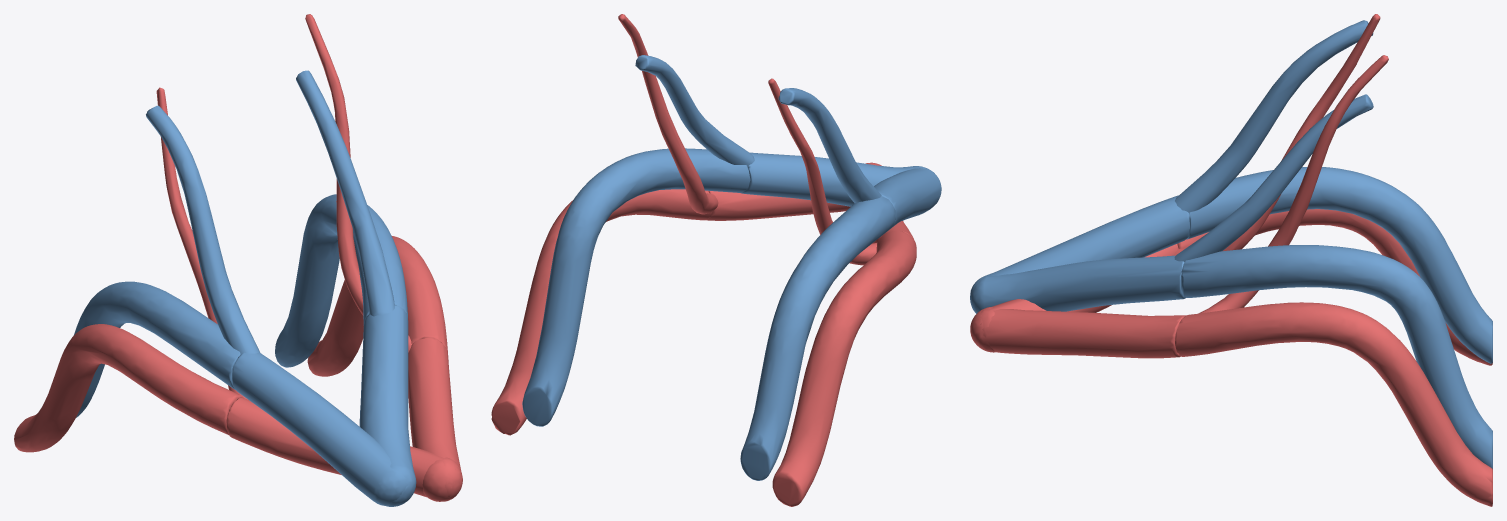
Rendered from bassin-vaisseaux.glb.
3 renders of one model, left to right at view 1: azimuth 30°, elevation 25°; view 2: azimuth 150°, elevation 25°; view 3: azimuth 270°, elevation 25°, orthographic. The views are drawn at different scales.
Visible parts, largest first — view 1: artere_iliaque_externe_droite, veine_iliaque_commune_droite, veine_iliaque_externe_gauche, veine_iliaque_externe_droite, veine_iliaque_commune_gauche, artere_iliaque_commune_gauche, veine_iliaque_interne_droite, artere_iliaque_externe_gauche, veine_iliaque_interne_gauche, artere_iliaque_commune_droite, artere_iliaque_interne_gauche, artere_iliaque_interne_droite; view 2: veine_iliaque_externe_gauche, veine_iliaque_externe_droite, artere_iliaque_externe_droite, artere_iliaque_externe_gauche, veine_iliaque_commune_gauche, veine_iliaque_interne_droite, veine_iliaque_interne_gauche, artere_iliaque_interne_gauche, artere_iliaque_commune_gauche, veine_iliaque_commune_droite, artere_iliaque_interne_droite; view 3: veine_iliaque_externe_gauche, artere_iliaque_externe_gauche, veine_iliaque_externe_droite, artere_iliaque_commune_gauche, veine_iliaque_commune_gauche, veine_iliaque_commune_droite, veine_iliaque_interne_droite, veine_iliaque_interne_gauche, artere_iliaque_interne_gauche, artere_iliaque_externe_droite, artere_iliaque_interne_droite, artere_iliaque_commune_droite.
Boxes of the visible parts, left/top/right/bottom form: artere_iliaque_externe_droite: left=14, top=324, right=243, bottom=452; veine_iliaque_commune_droite: left=232, top=352, right=408, bottom=505; veine_iliaque_externe_gauche: left=275, top=194, right=407, bottom=367; veine_iliaque_externe_droite: left=73, top=281, right=240, bottom=417; veine_iliaque_commune_gauche: left=359, top=305, right=416, bottom=506; artere_iliaque_commune_gauche: left=408, top=337, right=462, bottom=501; veine_iliaque_interne_droite: left=146, top=105, right=260, bottom=354; artere_iliaque_externe_gauche: left=307, top=236, right=447, bottom=376; veine_iliaque_interne_gauche: left=296, top=70, right=394, bottom=316; artere_iliaque_commune_droite: left=226, top=398, right=461, bottom=501; artere_iliaque_interne_gauche: left=305, top=14, right=412, bottom=352; artere_iliaque_interne_droite: left=156, top=87, right=247, bottom=399; veine_iliaque_externe_gauche: left=522, top=148, right=750, bottom=426; veine_iliaque_externe_droite: left=740, top=196, right=895, bottom=480; artere_iliaque_externe_droite: left=772, top=230, right=916, bottom=506; artere_iliaque_externe_gauche: left=491, top=189, right=711, bottom=435; veine_iliaque_commune_gauche: left=741, top=152, right=925, bottom=206; veine_iliaque_interne_droite: left=778, top=88, right=881, bottom=203; veine_iliaque_interne_gauche: left=635, top=55, right=754, bottom=165; artere_iliaque_interne_gauche: left=618, top=14, right=718, bottom=214; artere_iliaque_commune_gauche: left=705, top=163, right=881, bottom=220; veine_iliaque_commune_droite: left=874, top=167, right=941, bottom=228; artere_iliaque_interne_droite: left=768, top=78, right=876, bottom=265; veine_iliaque_externe_gauche: left=1181, top=245, right=1492, bottom=468; artere_iliaque_externe_gauche: left=1175, top=302, right=1492, bottom=506; veine_iliaque_externe_droite: left=1186, top=167, right=1492, bottom=363; artere_iliaque_commune_gauche: left=970, top=307, right=1186, bottom=358; veine_iliaque_commune_gauche: left=970, top=255, right=1185, bottom=313; veine_iliaque_commune_droite: left=970, top=195, right=1189, bottom=296; veine_iliaque_interne_droite: left=1175, top=20, right=1373, bottom=213; veine_iliaque_interne_gauche: left=1174, top=94, right=1373, bottom=261; artere_iliaque_interne_gauche: left=1198, top=55, right=1388, bottom=313; artere_iliaque_externe_droite: left=1177, top=209, right=1492, bottom=365; artere_iliaque_interne_droite: left=1173, top=14, right=1380, bottom=255; artere_iliaque_commune_droite: left=970, top=244, right=1178, bottom=352.
Size of the model in its own units: 108 by 133 by 150.
